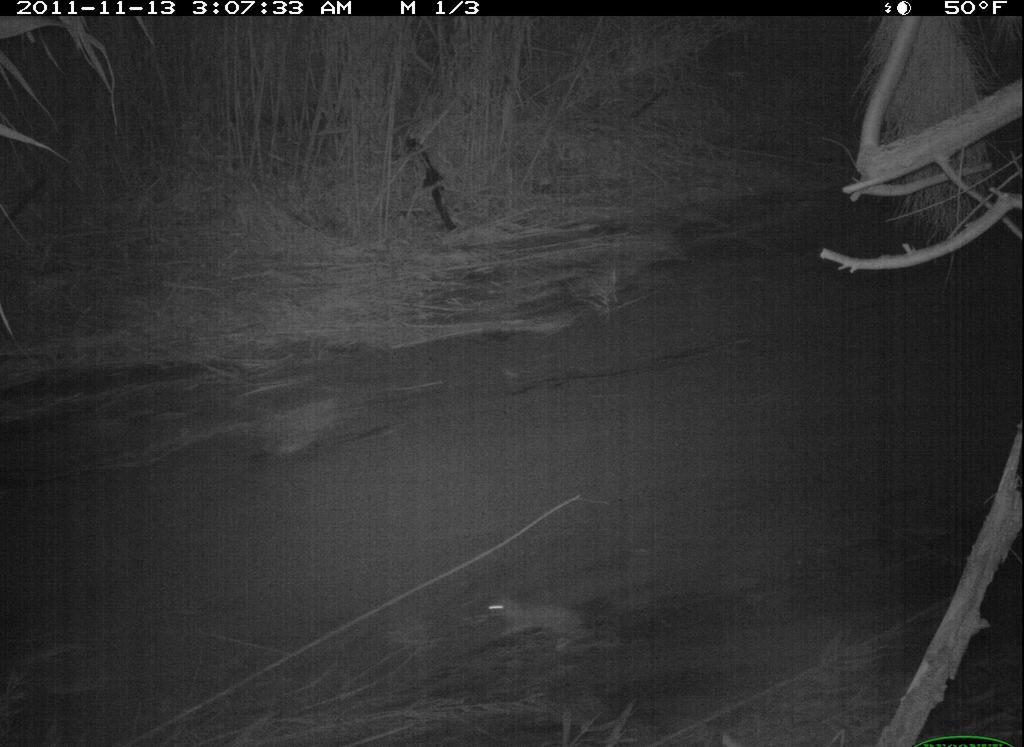rabbit: (479, 574, 605, 681)
